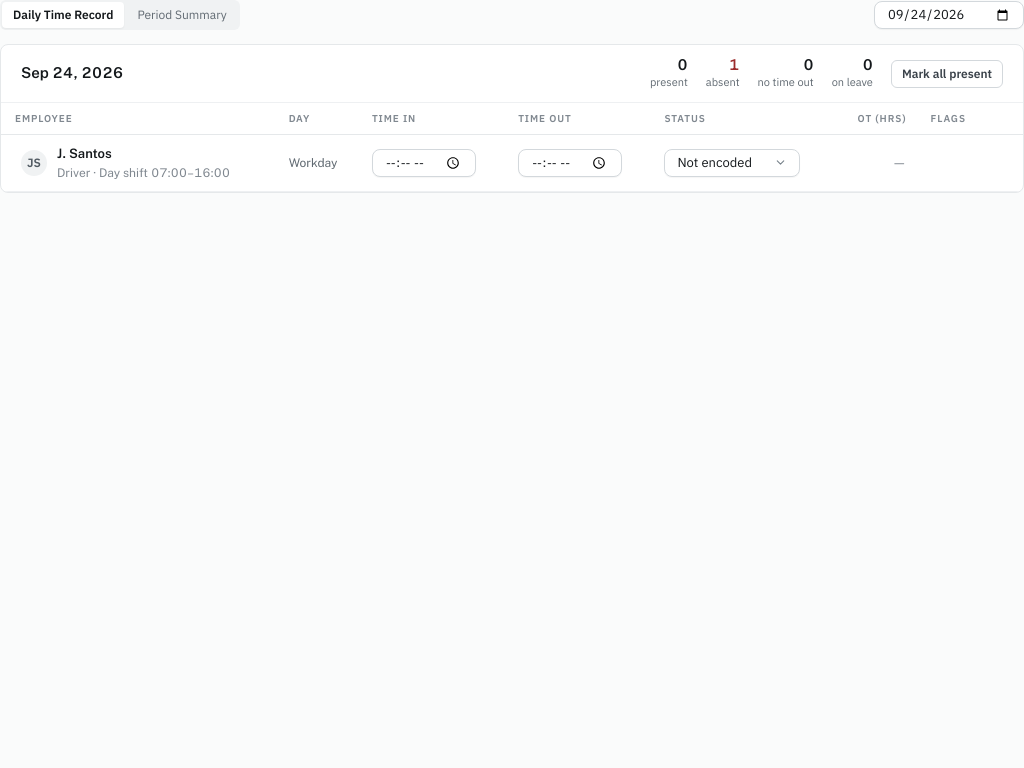
Test: Attendance views › opens an employee day by day, including the days with nothing on them
Step 1. Click the button "JS J. Santos Driver · Day shift 07:00–16:00" → (126, 163), box x1=21 y1=144 x2=230 y2=182
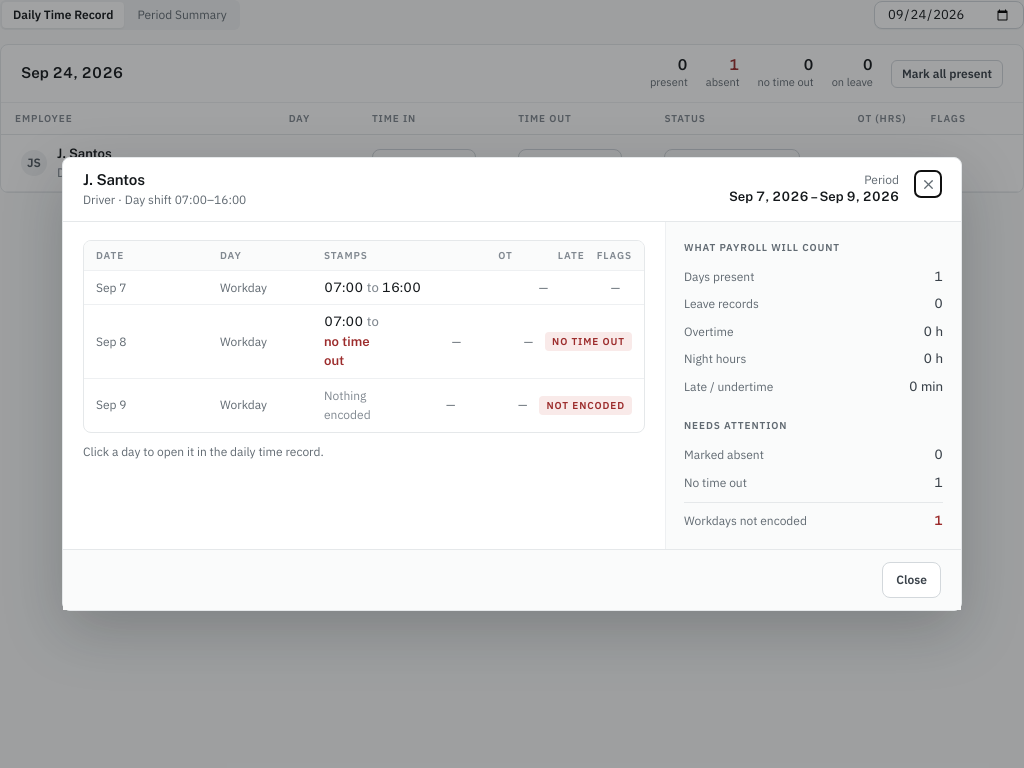
Now the text "Sep 7" is shown, box x1=96 y1=280 x2=127 y2=294
Now the text "Nothing encoded" is shown, box x1=324 y1=388 x2=371 y2=422
Now the text "no time out" is shown, box x1=324 y1=334 x2=370 y2=368
